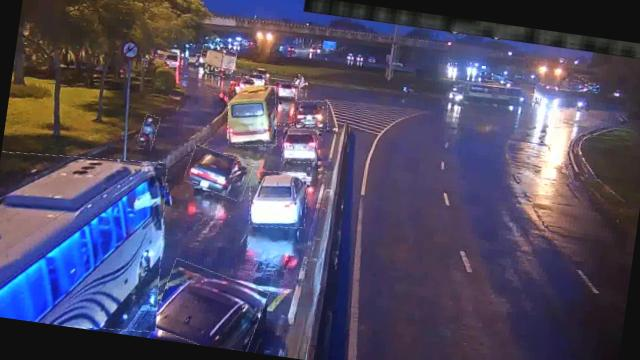Bike: (137, 114, 159, 151)
Bus: (0, 143, 175, 338), (222, 82, 281, 150)
Car: (152, 262, 267, 352), (244, 166, 310, 232), (183, 146, 253, 198), (280, 126, 320, 166), (290, 98, 330, 132), (267, 78, 300, 100)
Truck: (197, 44, 236, 77)
